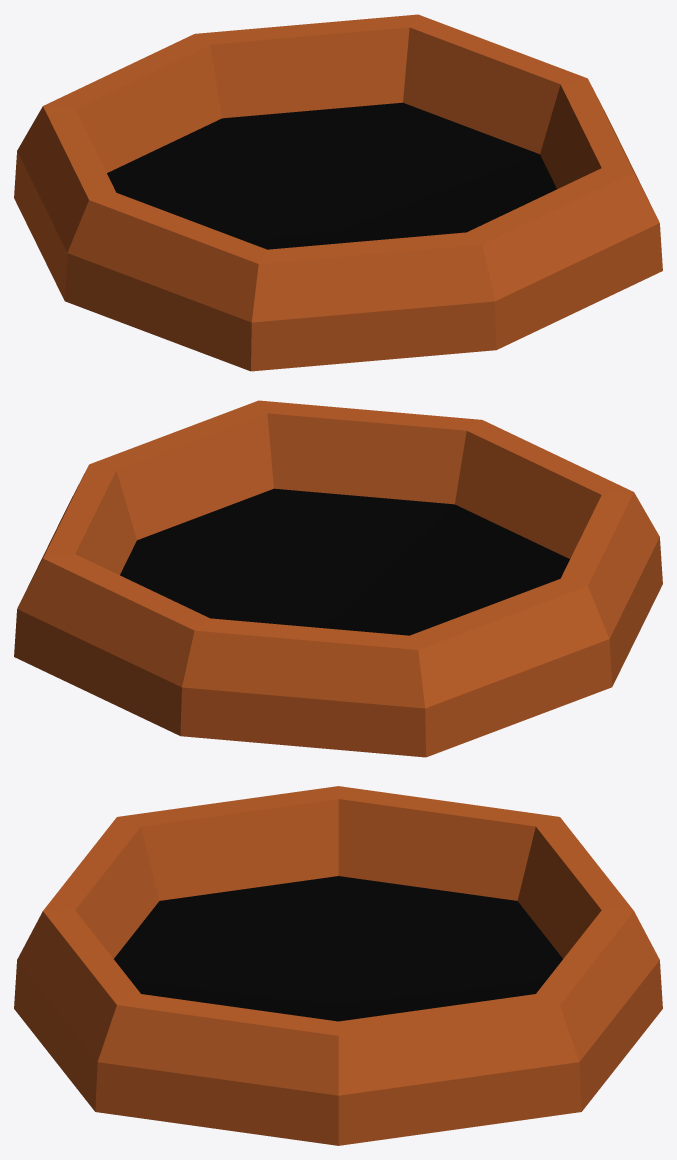
The model's file is new_undakan_tanah._fix.fbx.
The picture shows the model from 3 angles, top to bottom: view 1: azimuth 30°, elevation 25°; view 2: azimuth 150°, elevation 25°; view 3: azimuth 270°, elevation 25°; orthographic projection. The views are drawn at different scales.
Visible parts, largest first — view 1: Sphere.007; view 2: Sphere.007; view 3: Sphere.007.
Boxes of the visible parts, bbox=[...] form: Sphere.007: bbox=[14, 14, 662, 371]; Sphere.007: bbox=[14, 400, 662, 757]; Sphere.007: bbox=[14, 786, 662, 1145].
Size of the model in its own units: 48.63 by 8.15 by 48.63.
